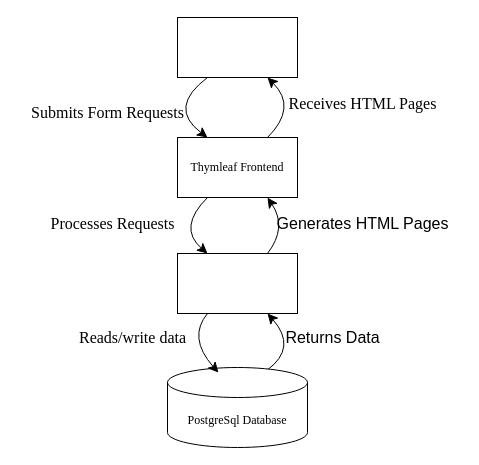
Image size: 479x465. Some labels were removed from this diagram. Here are the shapes that lost their labels. From the top down, the box of each, then its label:
(176, 16, 298, 78): User
(176, 252, 298, 314): Spring Backend
